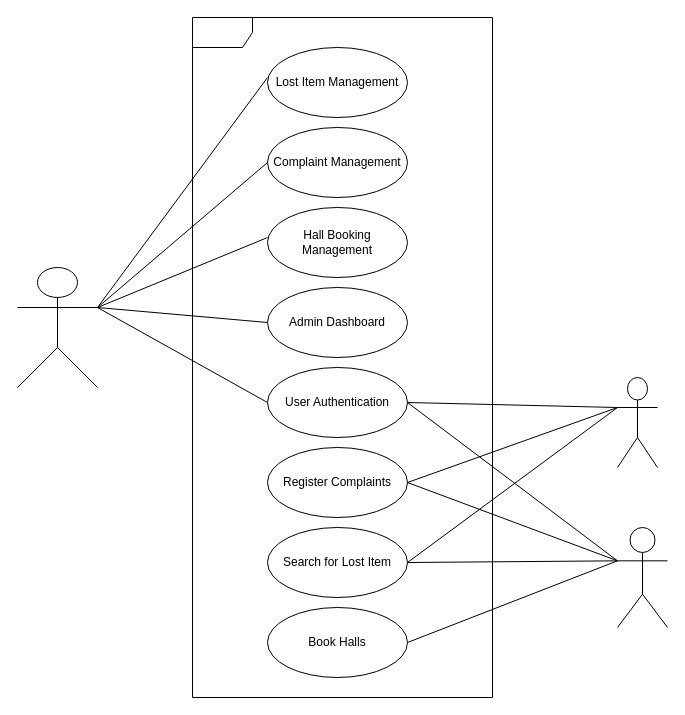
This 685x715 diagram has some shape labels left out. Here are the shapes that lost their labels. From the top down, the box of each, then its label:
(16, 266, 98, 388): Admin
(192, 16, 492, 698): Campus Care
(616, 376, 658, 468): Student
(616, 526, 668, 628): Faculty
